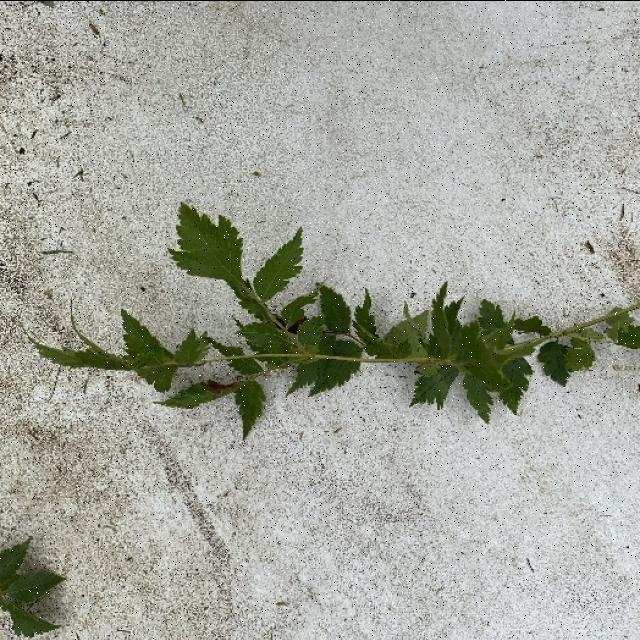organik: (48, 202, 640, 434)
